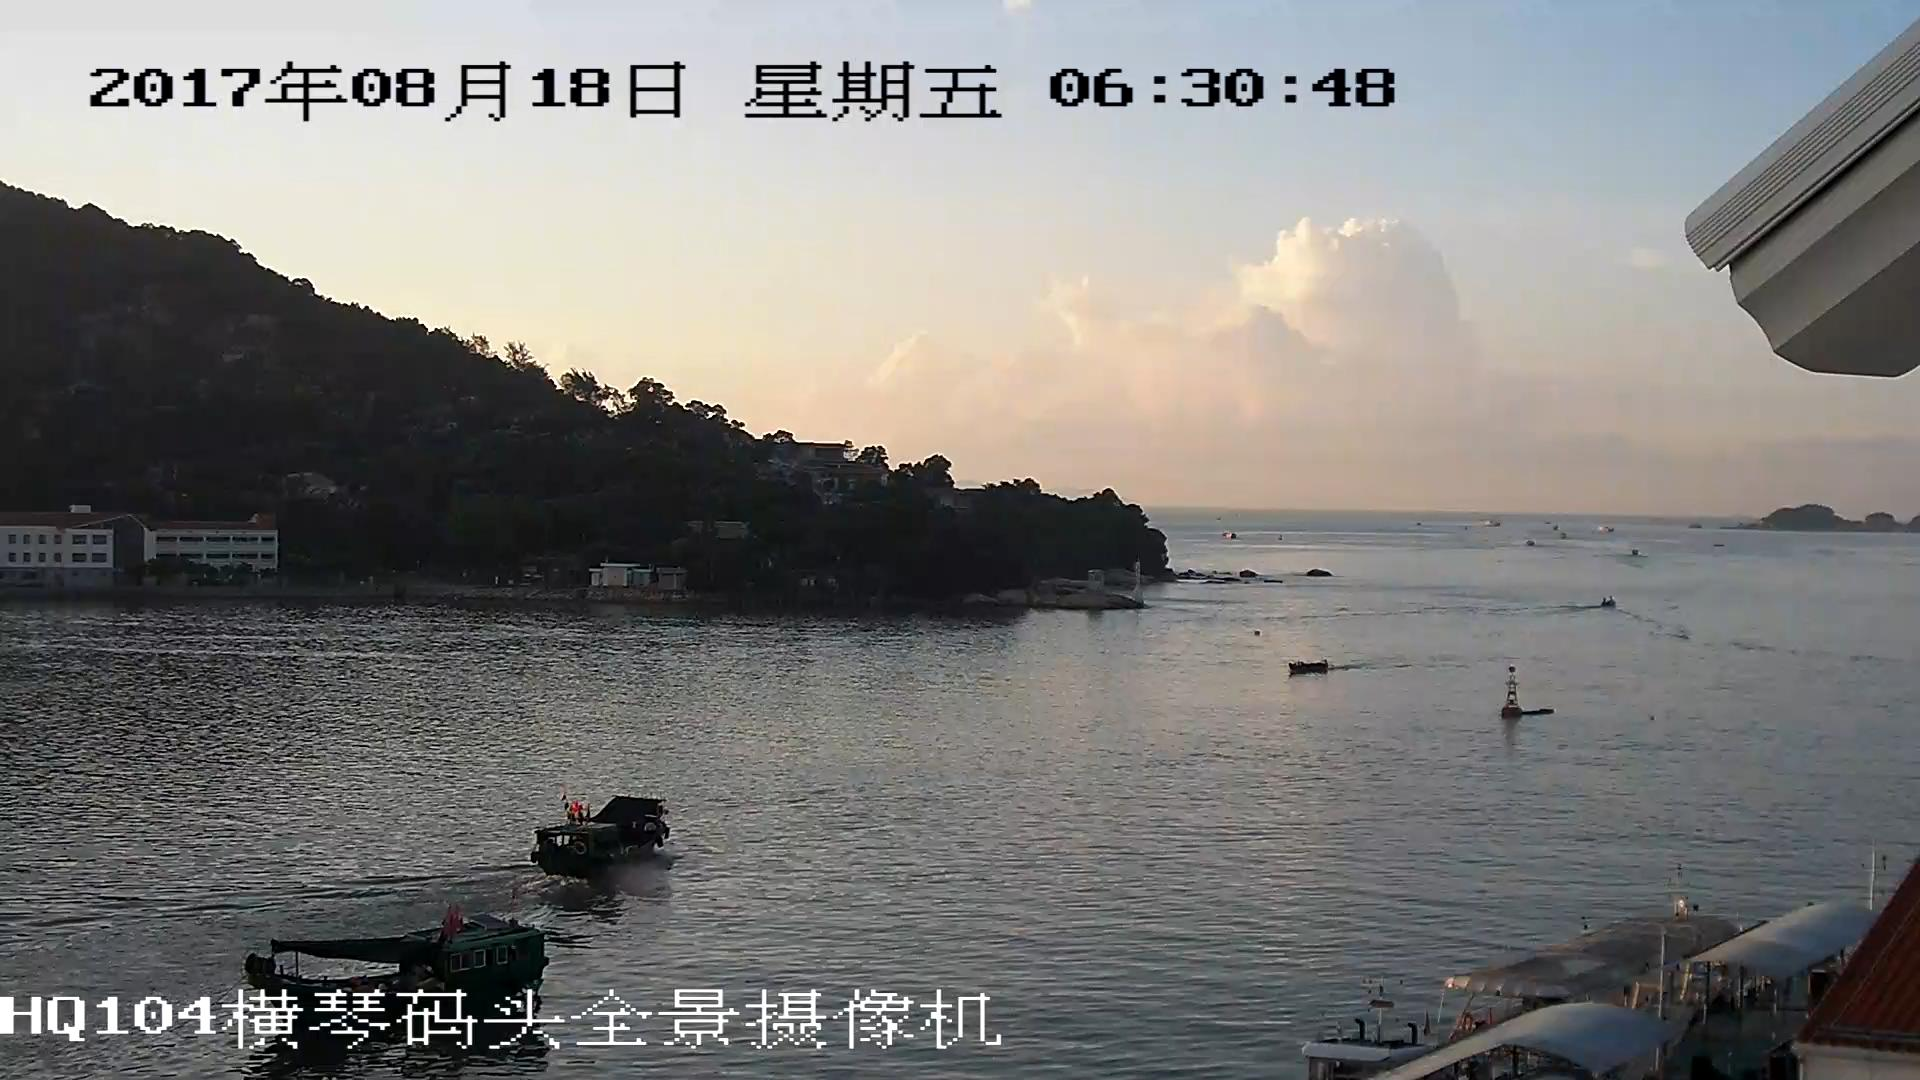fishing boat: (254, 922, 547, 992), (527, 797, 672, 872)
